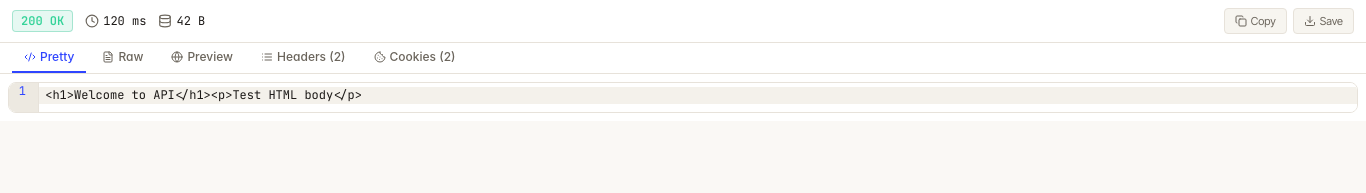
Phase 2 Response Engine & Security Isolation (OP-R2-005, 006, 007, 008) › renders structured cookies tab displaying multi-Set-Cookie table (OP-R2-006)
Click the button "Cookies (2)" at (414, 58), box [362,43,468,73]
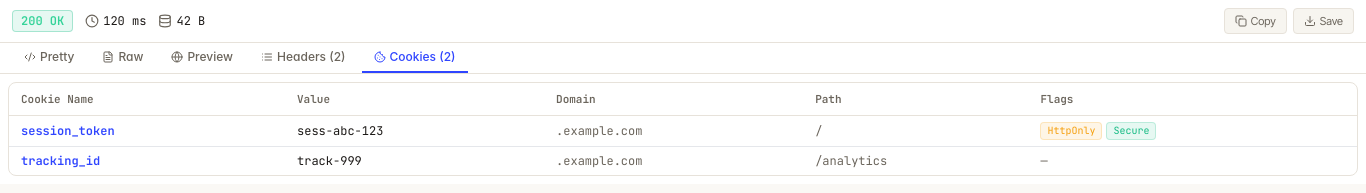
Expected: the text "session_token" is shown, [9,116,285,146]
Expected: the text "sess-abc-123" is shown, [285,116,544,146]
Expected: the text "HttpOnly" is shown, [1040,122,1102,140]
